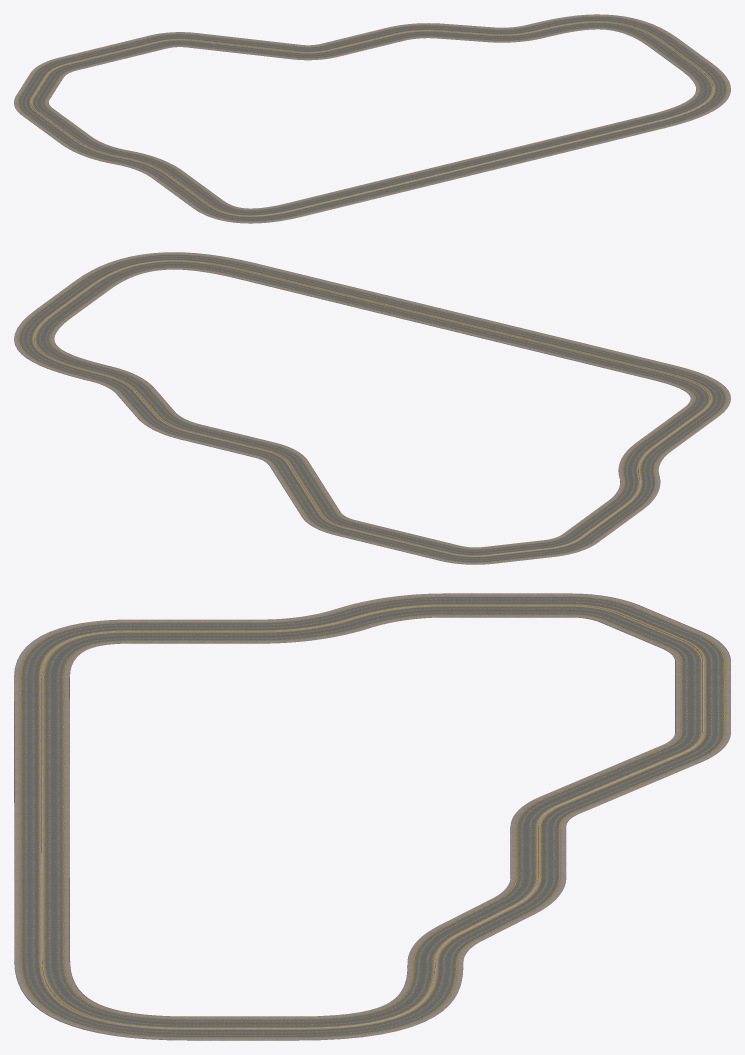
Rendered from Autopista.FBX.
3 renders of one model, top to bottom at view 1: azimuth 30°, elevation 25°; view 2: azimuth 150°, elevation 25°; view 3: azimuth 270°, elevation 25°, orthographic. The views are drawn at different scales.
Visible parts, largest first — view 1: Autopista; view 2: Autopista; view 3: Autopista.
Boxes of the visible parts, x1,y1,x2,y2 form: Autopista: (14,14,730,223); Autopista: (14,252,730,564); Autopista: (14,593,730,1040).
Size of the model in its own units: 513 by 0.3752 by 348.
Materials: 1 (1 with a texture image).
